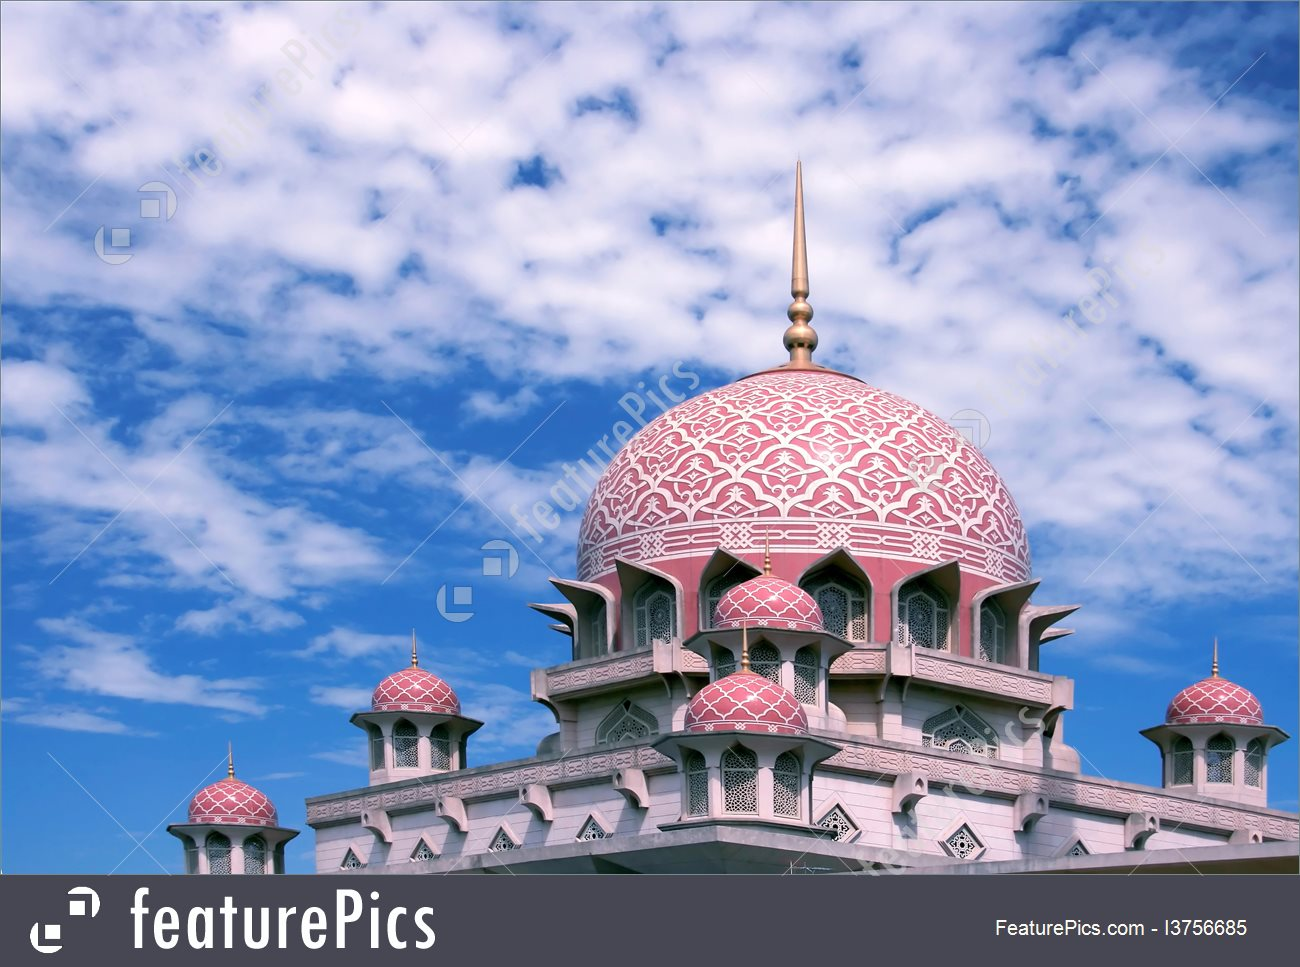Mosque: (378, 160, 1056, 810)
